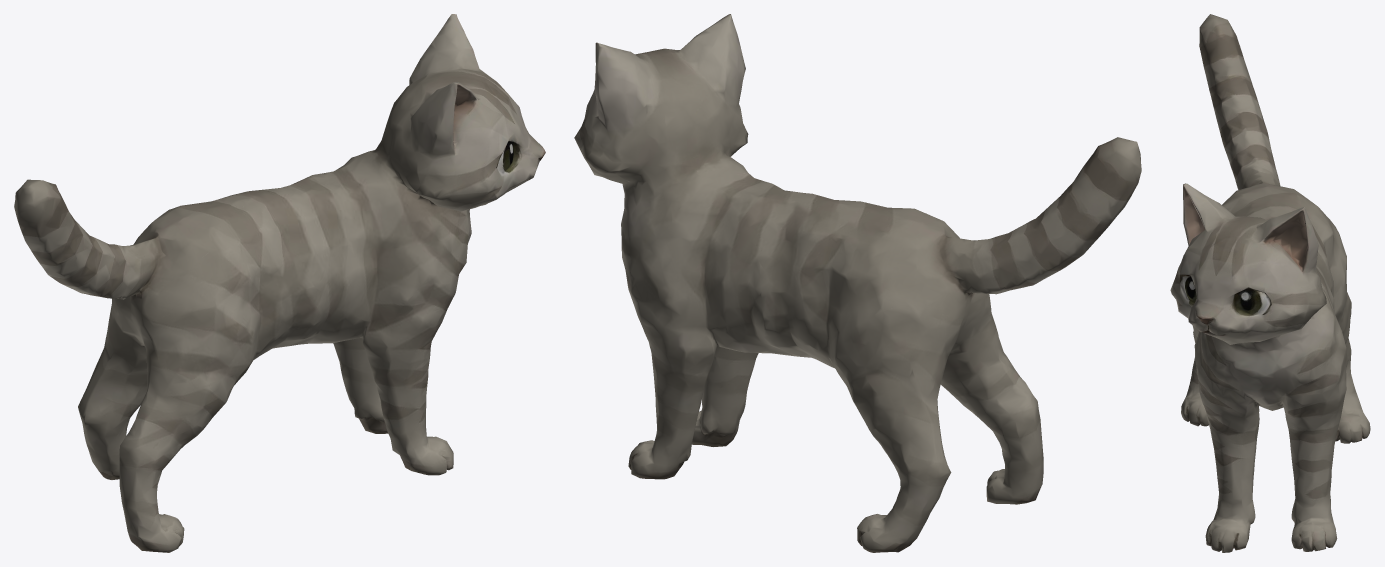
The model's file is APOTHECAT.glb.
The picture shows the model from 3 angles, left to right: view 1: azimuth 30°, elevation 25°; view 2: azimuth 150°, elevation 25°; view 3: azimuth 270°, elevation 25°; orthographic projection. The views are drawn at different scales.
Parts seen in each view (by area): view 1: tripo_node_55590264-1c04-4a7c-a5d4-2e280c093eea; view 2: tripo_node_55590264-1c04-4a7c-a5d4-2e280c093eea; view 3: tripo_node_55590264-1c04-4a7c-a5d4-2e280c093eea.
Boxes of the visible parts, x1=… form: tripo_node_55590264-1c04-4a7c-a5d4-2e280c093eea: x1=14, y1=14, x2=545, y2=552; tripo_node_55590264-1c04-4a7c-a5d4-2e280c093eea: x1=574, y1=14, x2=1141, y2=552; tripo_node_55590264-1c04-4a7c-a5d4-2e280c093eea: x1=1170, y1=14, x2=1370, y2=552.
Size of the model in its own units: 1.35 by 1 by 0.4946.
Materials: 1 (1 with a texture image).
